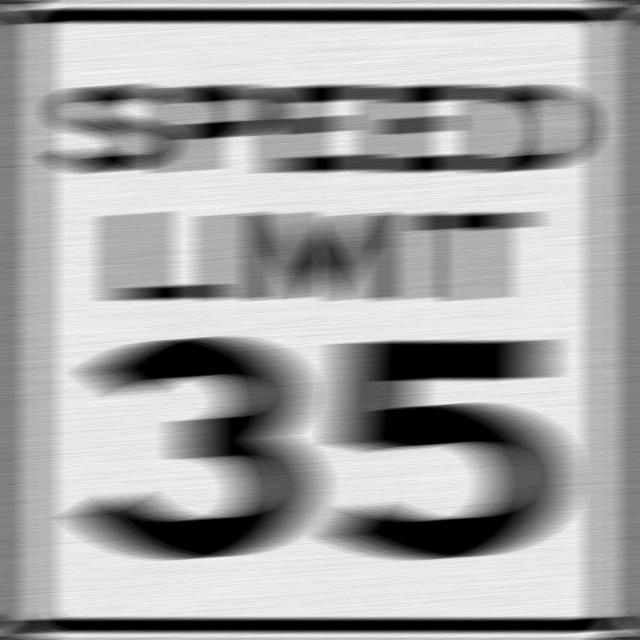speedLimit35: (0, 13, 639, 624)
